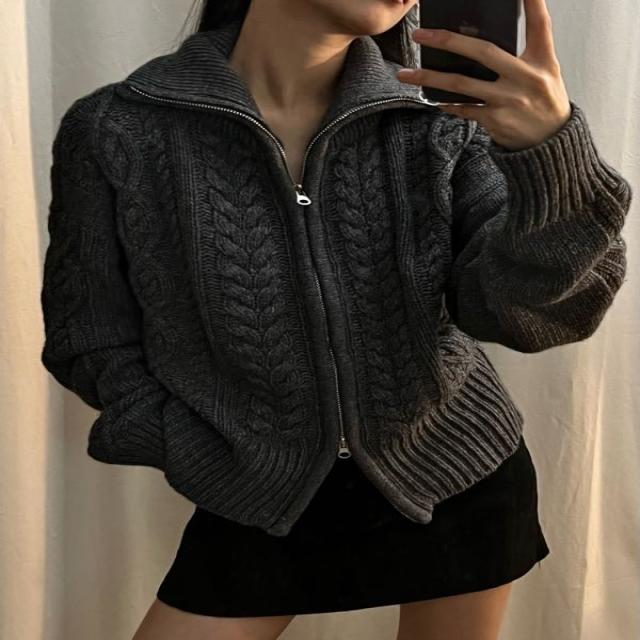cardigan: (36, 20, 633, 525)
skirt: (152, 400, 553, 615)
